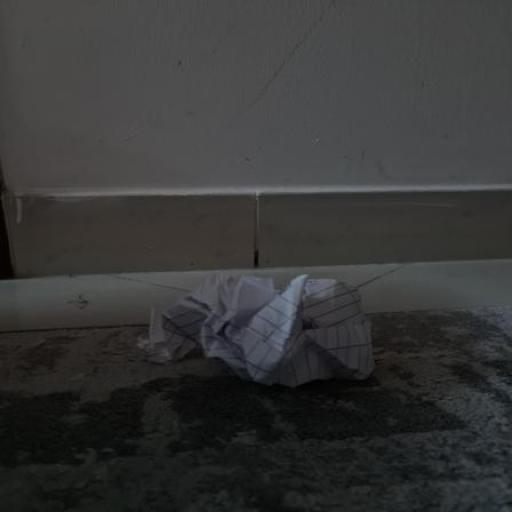paper: (134, 273, 377, 382)
